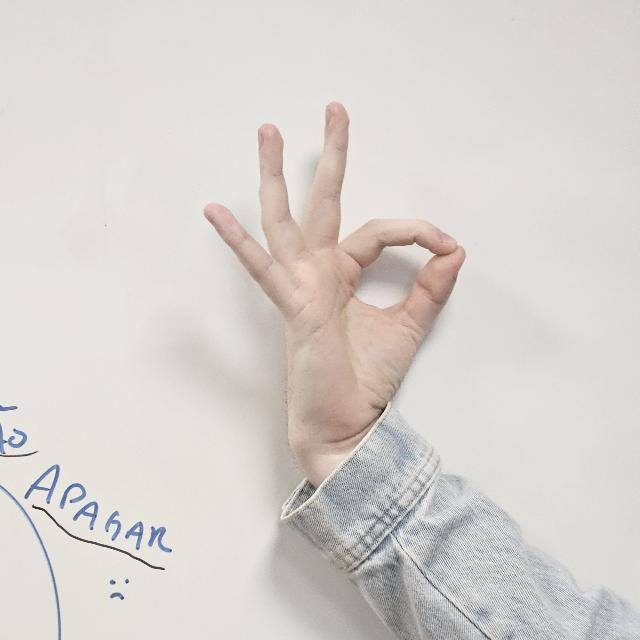Bolinha: (208, 87, 486, 437)
